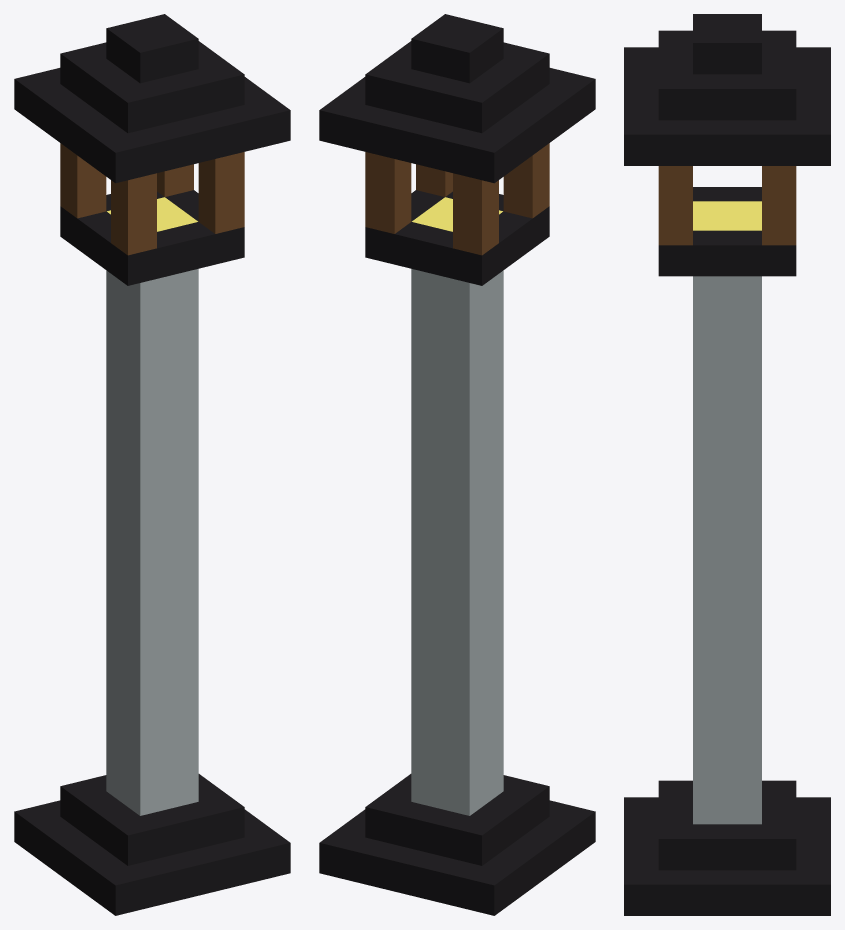
File: farol.obj
3 renders of one model, left to right at view 1: azimuth 30°, elevation 25°; view 2: azimuth 150°, elevation 25°; view 3: azimuth 270°, elevation 25°, orthographic. The views are drawn at different scales.
Bounding box in the file's own units: 0.6 × 2.7 × 0.6.
